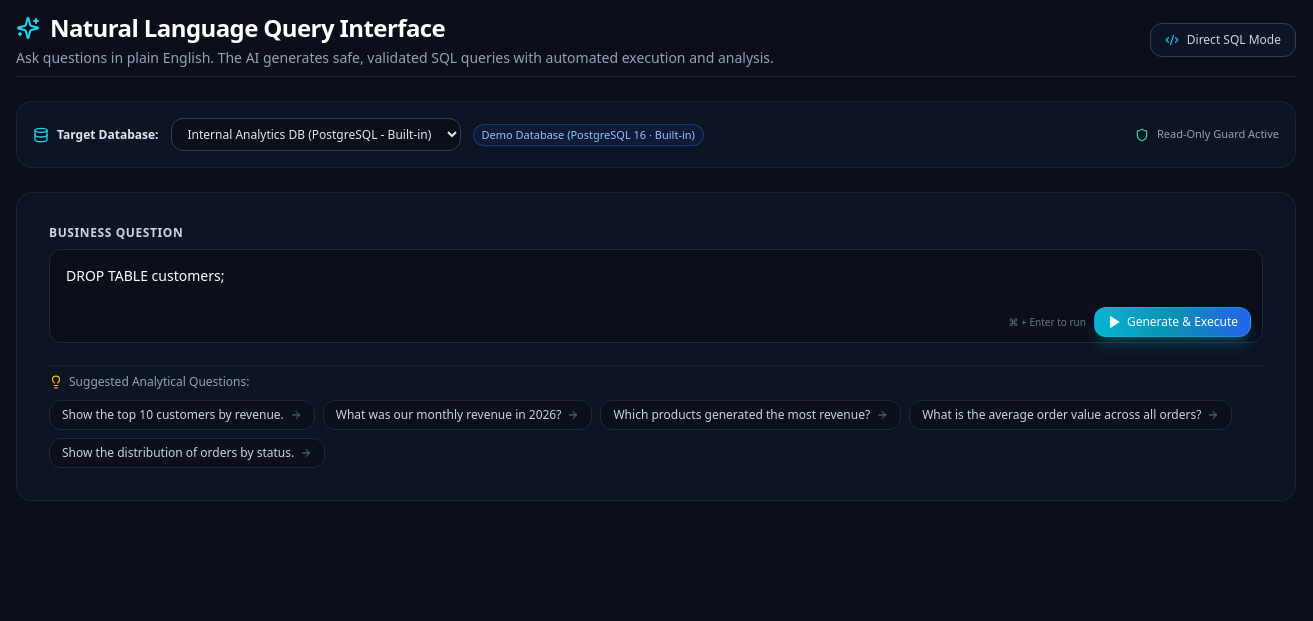
QueryView Component › renders security error banner when query is blocked
Click the button "Generate & Execute" at [1172, 322], box [1094,307,1251,337]
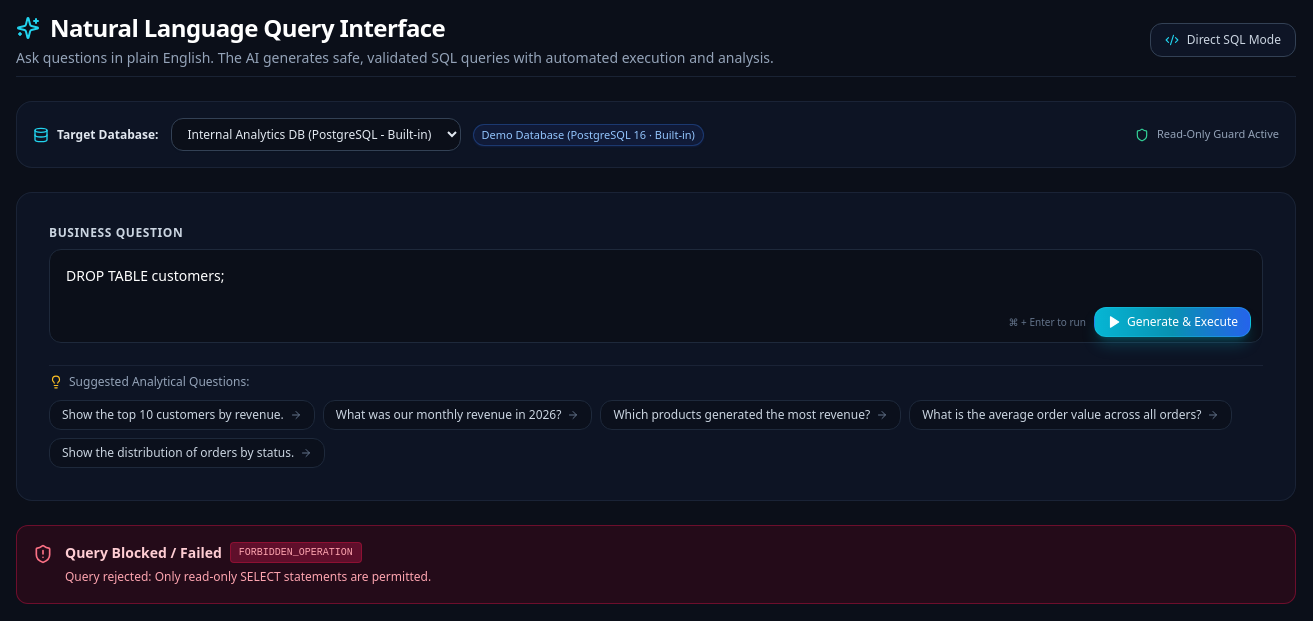
Result: the text "Query Blocked / Failed" is shown at [65,542,222,562]
Result: the text "Only read-only SELECT statements are permitted" is shown at [65,568,431,585]
Result: the text "FORBIDDEN_OPERATION" is shown at [230,542,362,563]
